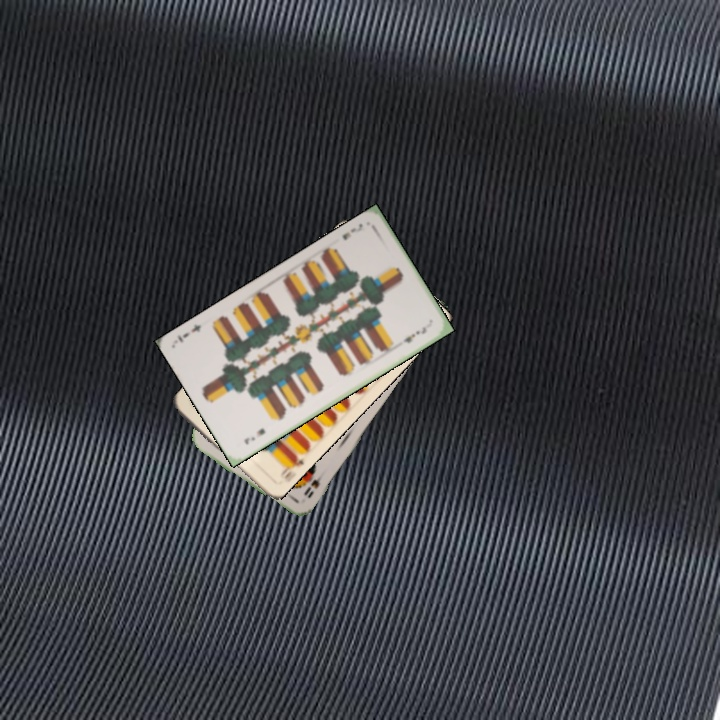E10: (276, 450, 306, 482)
E7: (338, 219, 365, 243), (240, 424, 268, 447)
SO: (300, 467, 328, 501)
